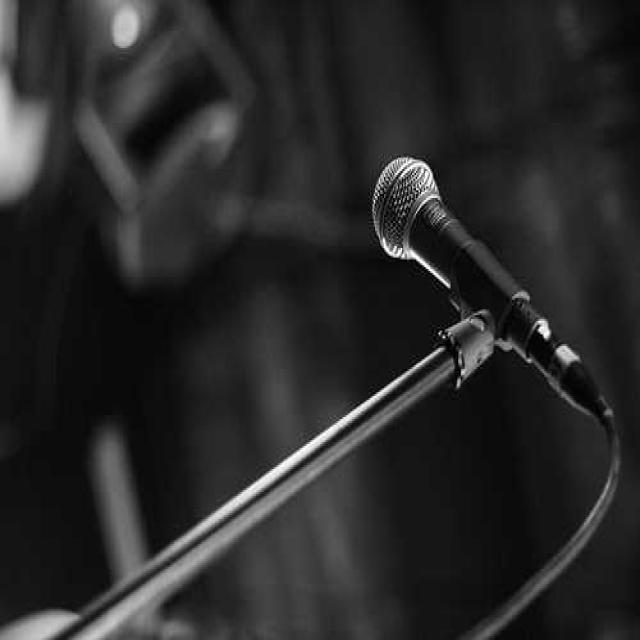microphone: (375, 152, 603, 427)
